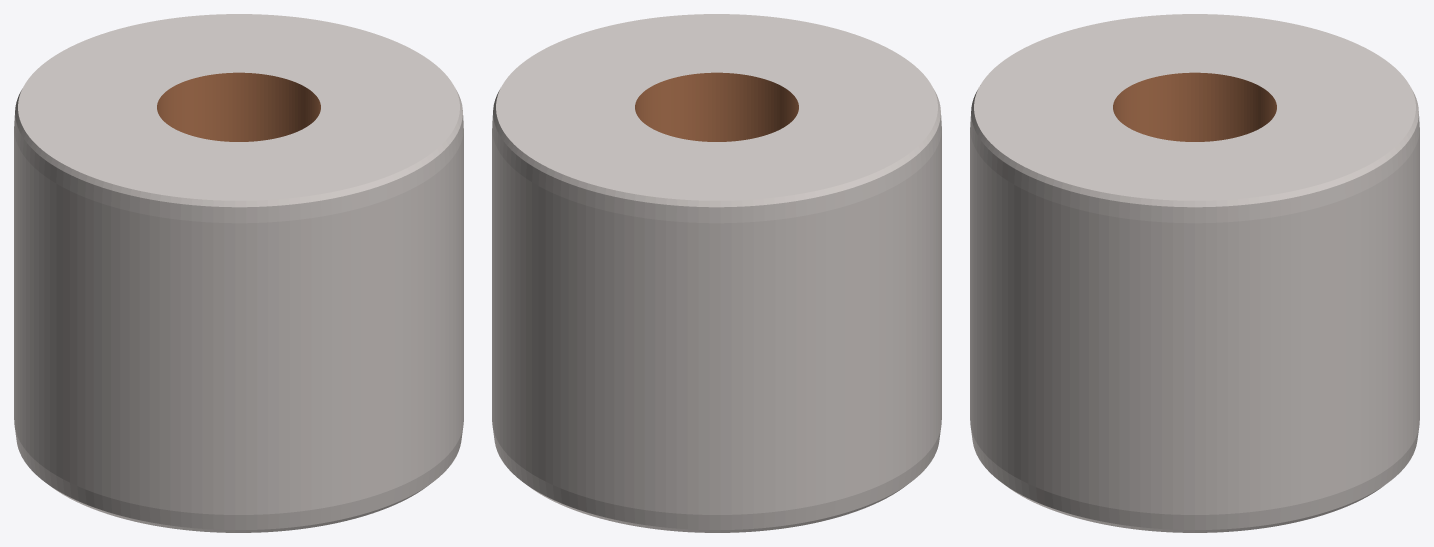
File: toiletpaperroll.fbx
The picture shows the model from 3 angles, left to right: view 1: azimuth 30°, elevation 25°; view 2: azimuth 150°, elevation 25°; view 3: azimuth 270°, elevation 25°; orthographic projection.
Visible parts, largest first — view 1: Circle.001; view 2: Circle.001; view 3: Circle.001.
Part boxes in pixels (box(x1,y1,x2,y2)): Circle.001: box(14, 14, 463, 532); Circle.001: box(492, 14, 941, 532); Circle.001: box(970, 14, 1419, 532).
Size of the model in its own units: 941 by 773 by 941.
